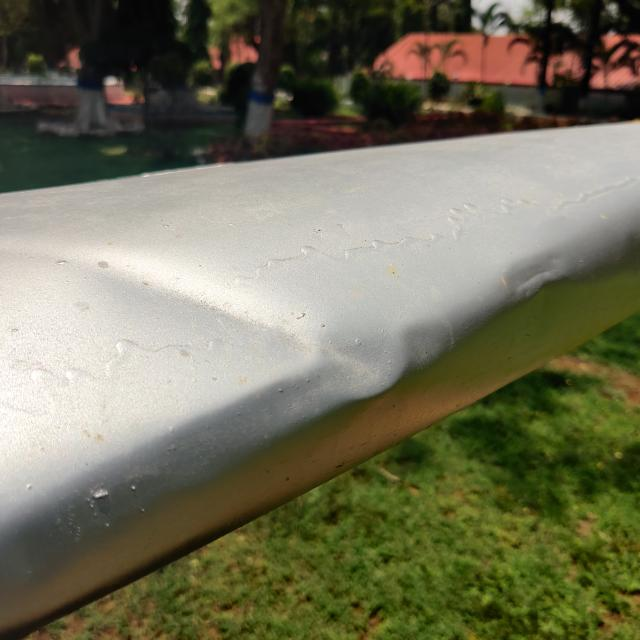dent: (104, 243, 424, 427), (491, 234, 572, 312)
